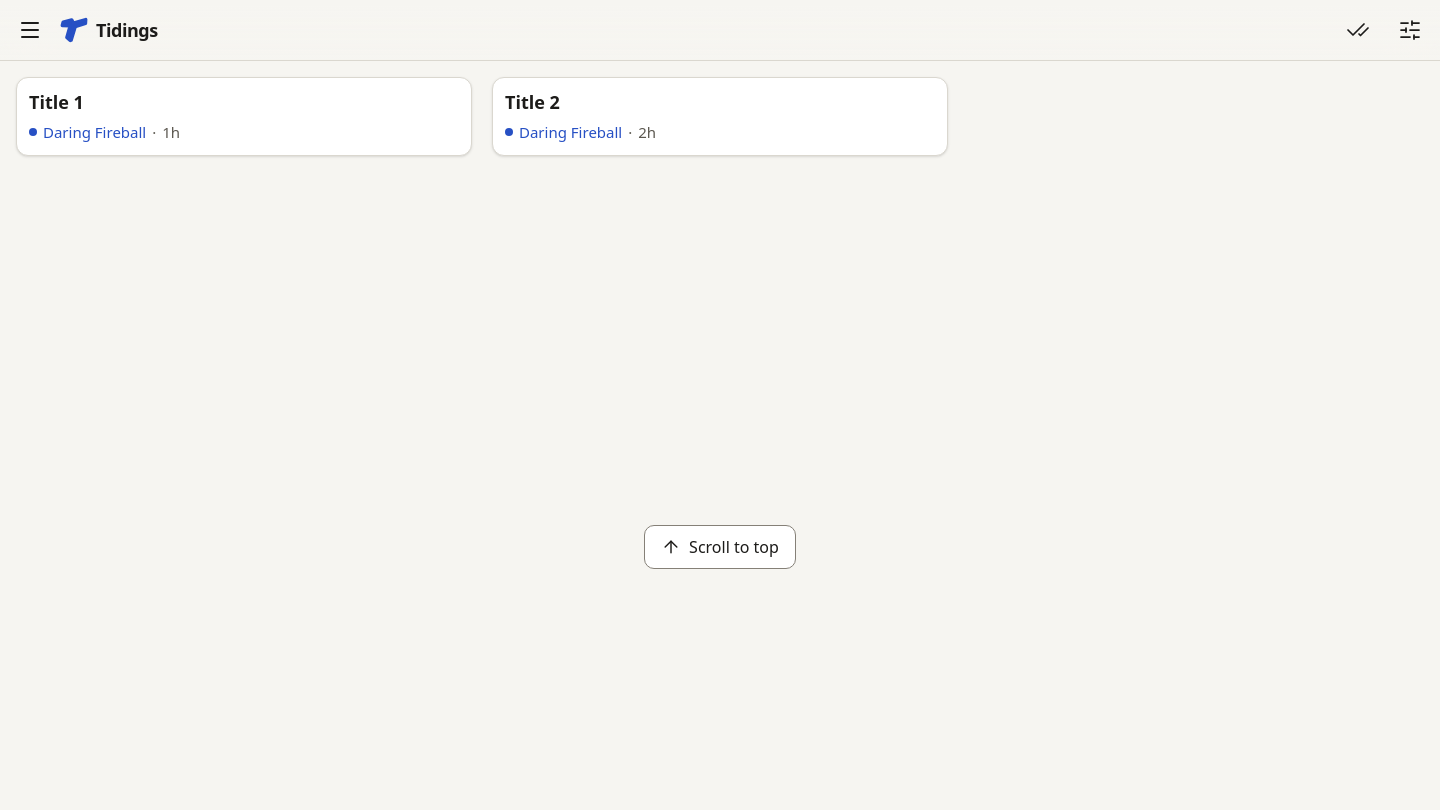
Test: AC3: more than 20 entries › asks first with the number; Cancel sends nothing, the confirm button marks
Check: the heading "Title 1" is shown, box [29,90,84,114]
Click the button named "Mark all as read". click: (1358, 30)
box: [1336,8,1380,52]
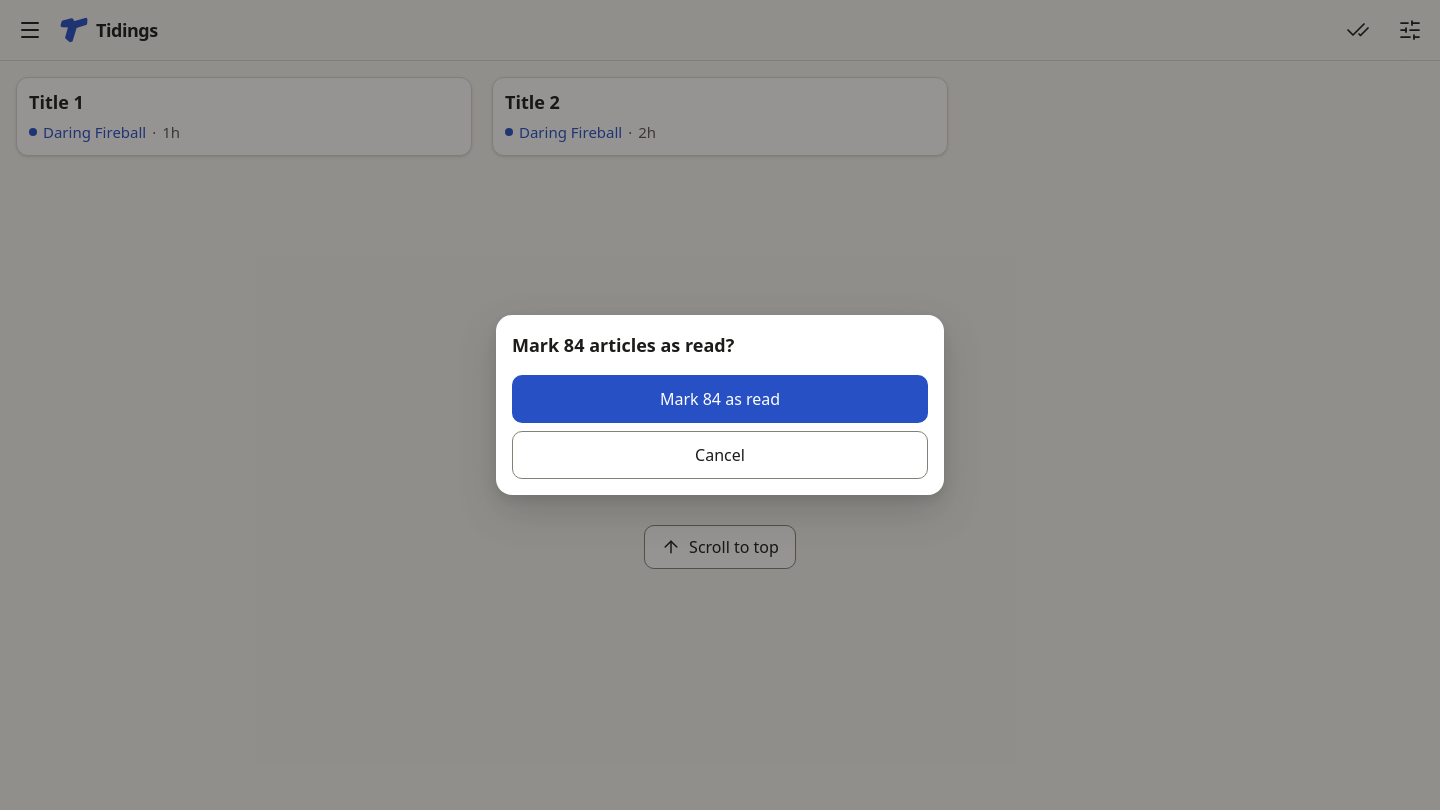
Click the button "Cancel". click: (720, 455)
box: [512,431,928,479]
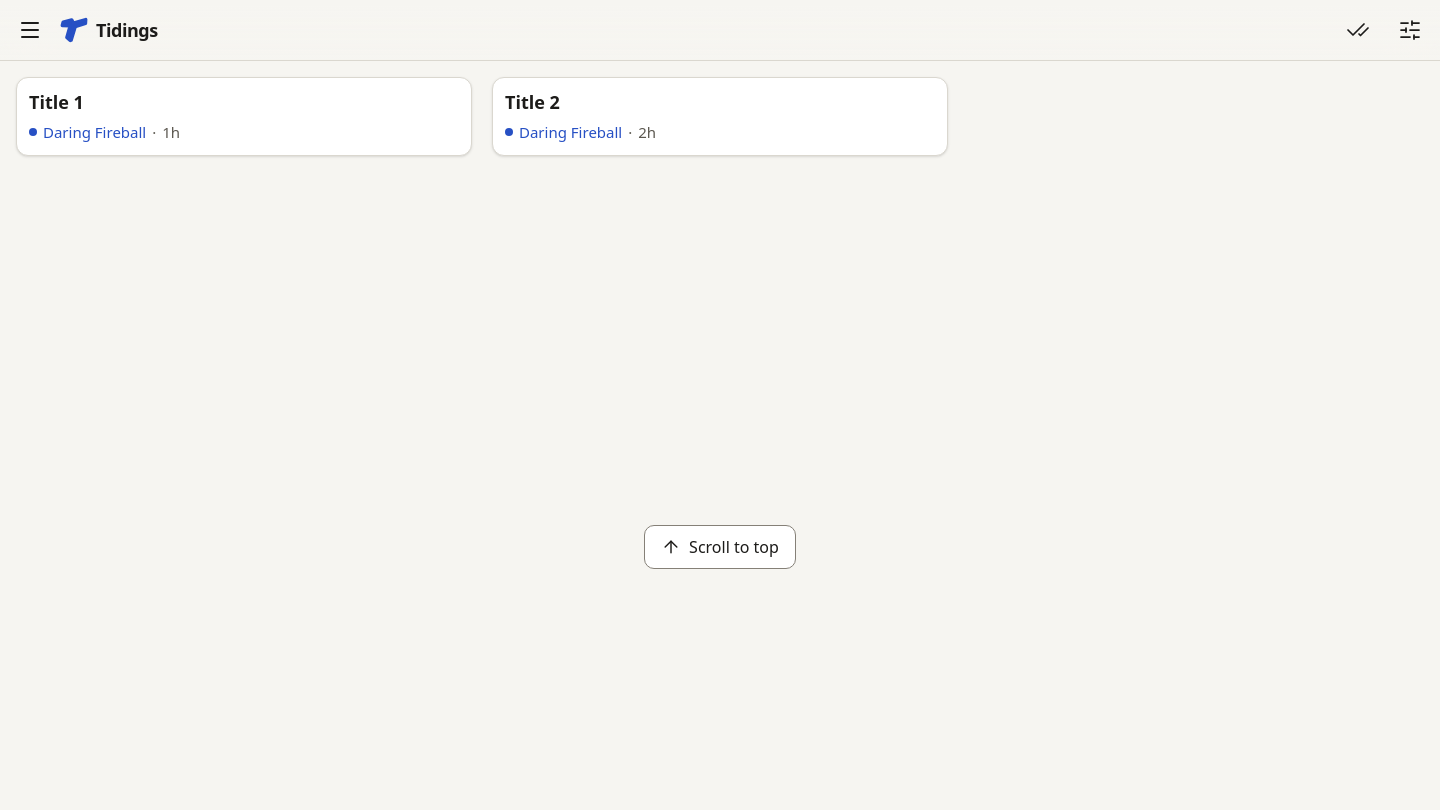
Check: the dialog is gone
Click the button named "Mark all as read". click: (1358, 30)
box: [1336,8,1380,52]
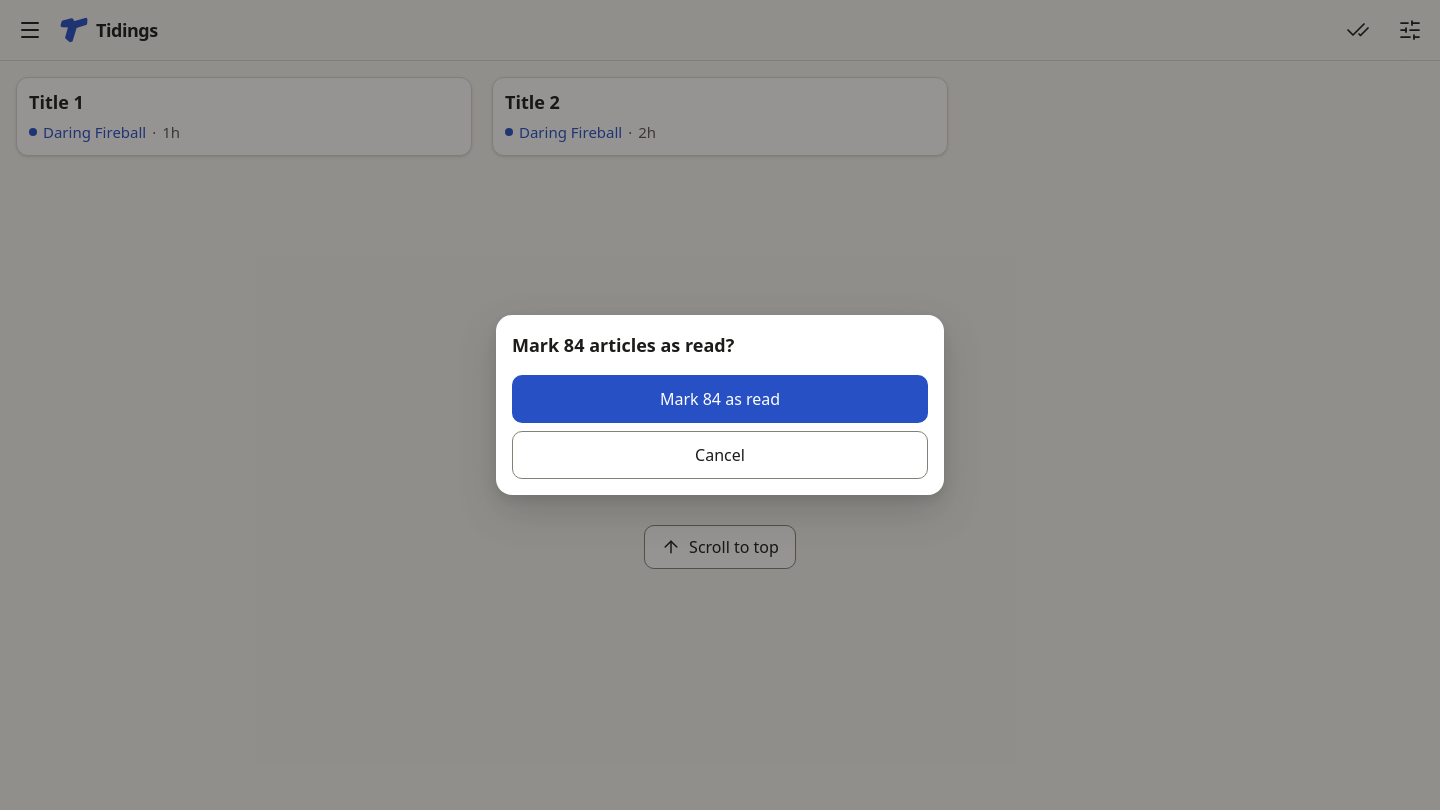
Click the button "Mark 84 as read". click: (720, 399)
box: [512,375,928,423]
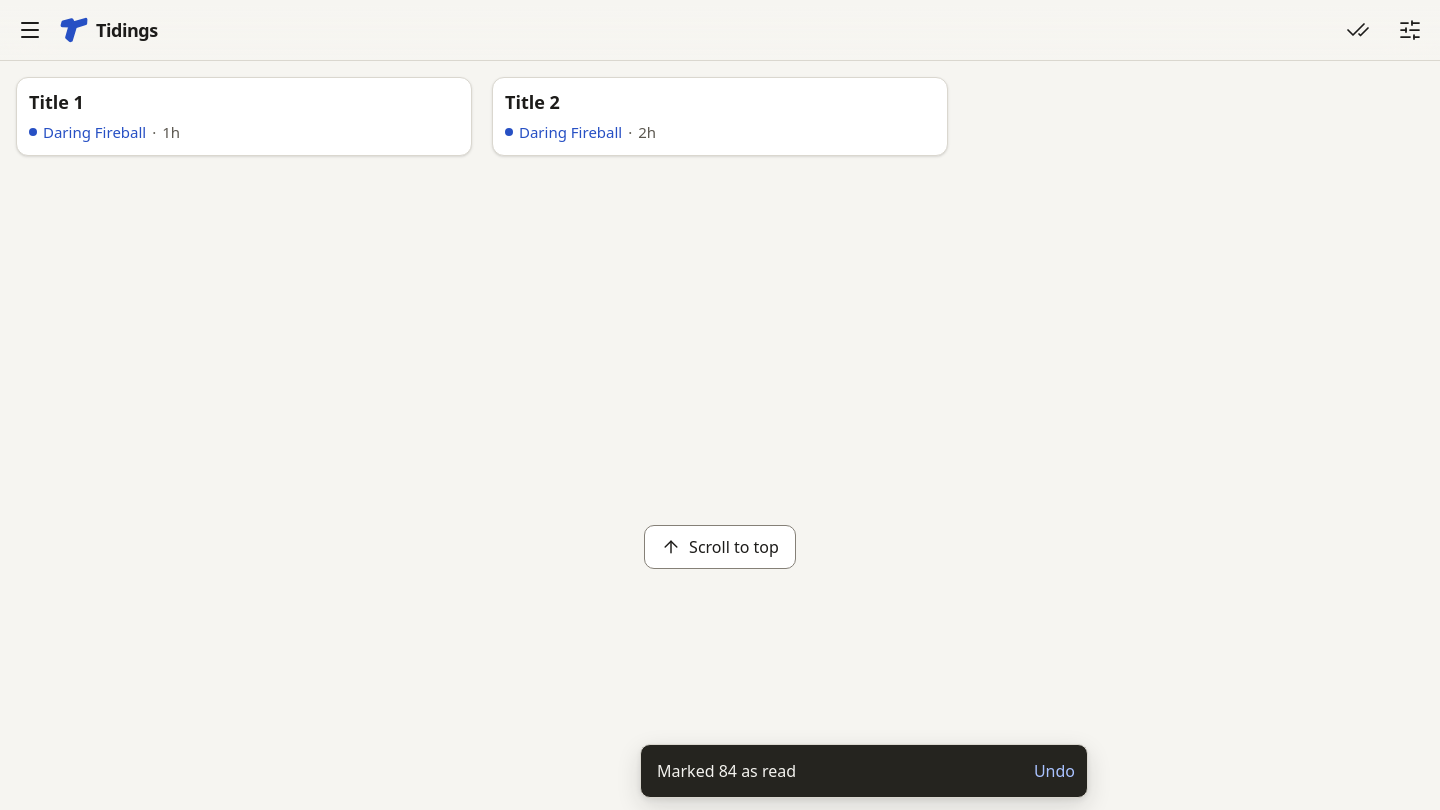
Check: the dialog is gone
Check: the text "Marked 84 as read" is shown, box [657,760,796,782]
